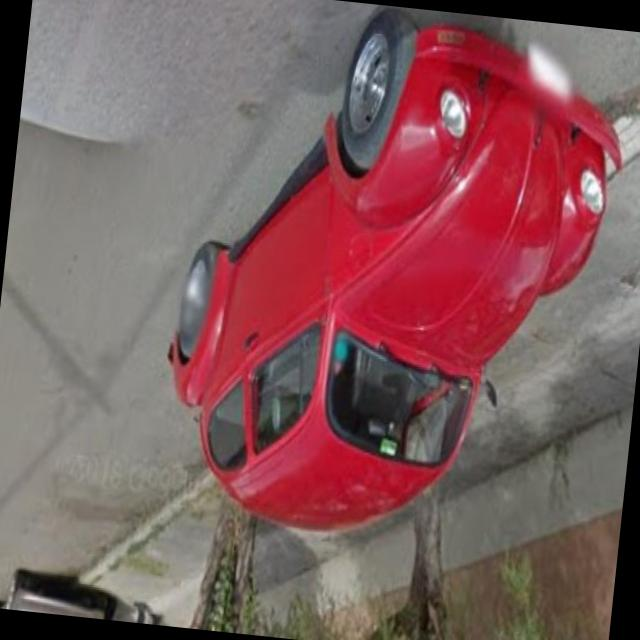car: (157, 0, 632, 566)
